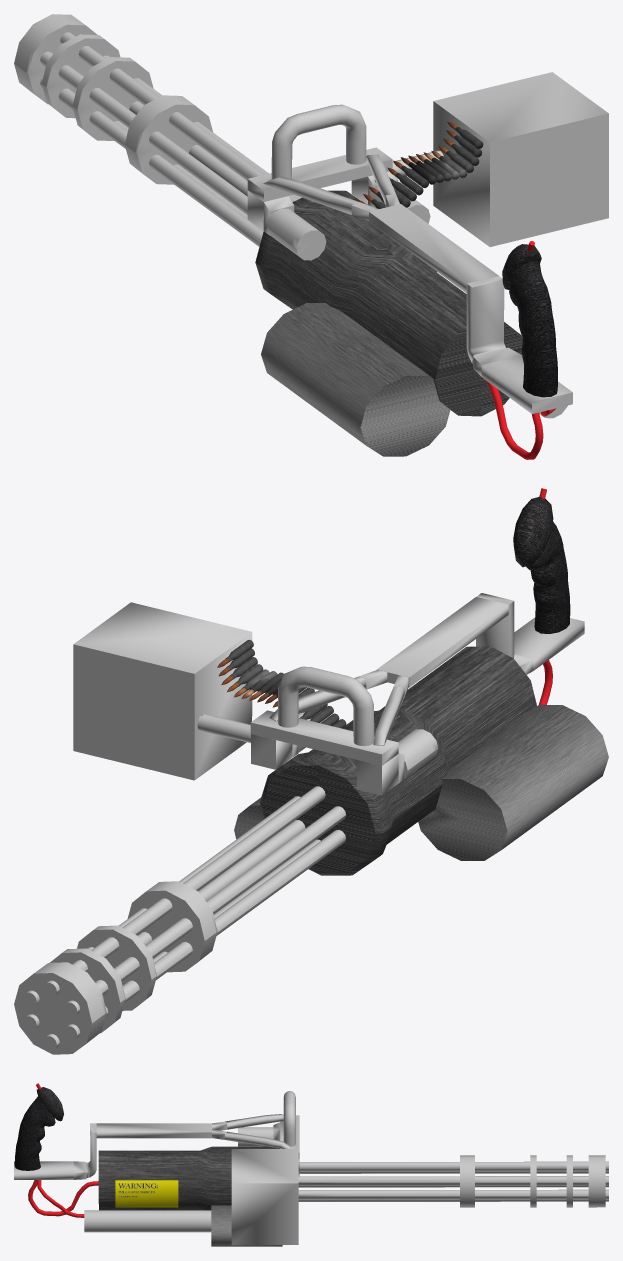
The model's file is m134_world.fbx.
3 views of the same model, one above another, from view 1: azimuth 30°, elevation 25°; view 2: azimuth 150°, elevation 25°; view 3: azimuth 270°, elevation 25° (orthographic). The views are drawn at different scales.
Visible parts, largest first — view 1: m134_magazine, m134_mainbody, m134_bigmotor, m134_barrelclamp, m134_ysupport, m134_handleframe, m134_controller, m134_belt, m134_handle, m134_barrel3, m134_barrel4, m134_barrel1 (+4 smaller); view 2: m134_magazine, m134_mainbody, m134_bigmotor, m134_barrelclamp, m134_handleframe, m134_ysupport, m134_controller, m134_barrel3, m134_barrel1, m134_barrel4, m134_handle, m134_belt (+6 smaller); view 3: m134_mainbody, m134_magazine, m134_ysupport, m134_motor2, m134_barrel6, m134_barrelclamp, m134_barrel1, m134_barrel5, m134_controller, m134_controlsupport, m134_motor1, m134_handleframe (+7 smaller).
Part boxes in pixels (x1,y1,x2,y2): m134_magazine: (433, 72, 608, 246); m134_mainbody: (255, 190, 522, 416); m134_bigmotor: (261, 303, 450, 456); m134_barrelclamp: (14, 14, 212, 184); m134_ysupport: (263, 154, 498, 292); m134_handleframe: (247, 147, 430, 260); m134_controller: (502, 244, 557, 397); m134_belt: (356, 121, 483, 208); m134_handle: (271, 104, 366, 178); m134_barrel3: (40, 51, 247, 214); m134_barrel4: (40, 77, 263, 246); m134_barrel1: (60, 32, 297, 201); m134_magazine: (73, 602, 252, 780); m134_mainbody: (259, 646, 536, 875); m134_bigmotor: (418, 704, 608, 860); m134_barrelclamp: (14, 881, 217, 1054); m134_handleframe: (250, 710, 438, 795); m134_ysupport: (269, 597, 508, 745); m134_controller: (513, 496, 570, 633); m134_barrel3: (64, 806, 345, 1016); m134_barrel1: (43, 786, 325, 996); m134_barrel4: (63, 830, 345, 1040); m134_handle: (278, 666, 374, 746); m134_belt: (217, 639, 346, 728); m134_mainbody: (98, 1146, 280, 1210); m134_magazine: (231, 1149, 298, 1245); m134_ysupport: (96, 1114, 290, 1148); m134_motor2: (84, 1210, 211, 1232); m134_barrel6: (298, 1176, 608, 1185); m134_barrelclamp: (460, 1155, 605, 1207); m134_barrel1: (299, 1161, 608, 1170); m134_barrel5: (298, 1189, 608, 1198); m134_controller: (15, 1087, 63, 1170); m134_controlsupport: (14, 1161, 86, 1179); m134_motor1: (211, 1205, 282, 1246); m134_handleframe: (238, 1115, 299, 1176).
Size of the model in its own units: 22.7 by 14.51 by 55.18.
